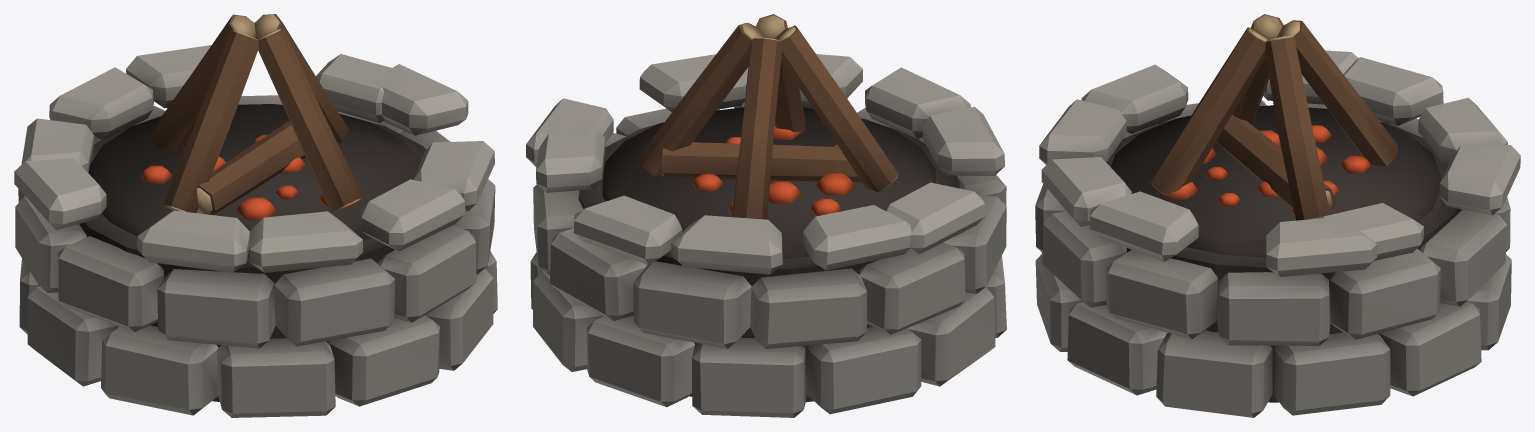
Rendered from firePit.glb.
3 renders of one model, left to right at view 1: azimuth 30°, elevation 25°; view 2: azimuth 150°, elevation 25°; view 3: azimuth 270°, elevation 25°, orthographic.
Visible parts, largest first — view 1: pit; view 2: pit; view 3: pit.
Boxes of the visible parts, left/top/right/bottom form: pit: left=14, top=14, right=497, bottom=417; pit: left=526, top=14, right=1006, bottom=417; pit: left=1035, top=14, right=1520, bottom=417.
Size of the model in its own units: 0.9199 by 0.6184 by 0.9169.
